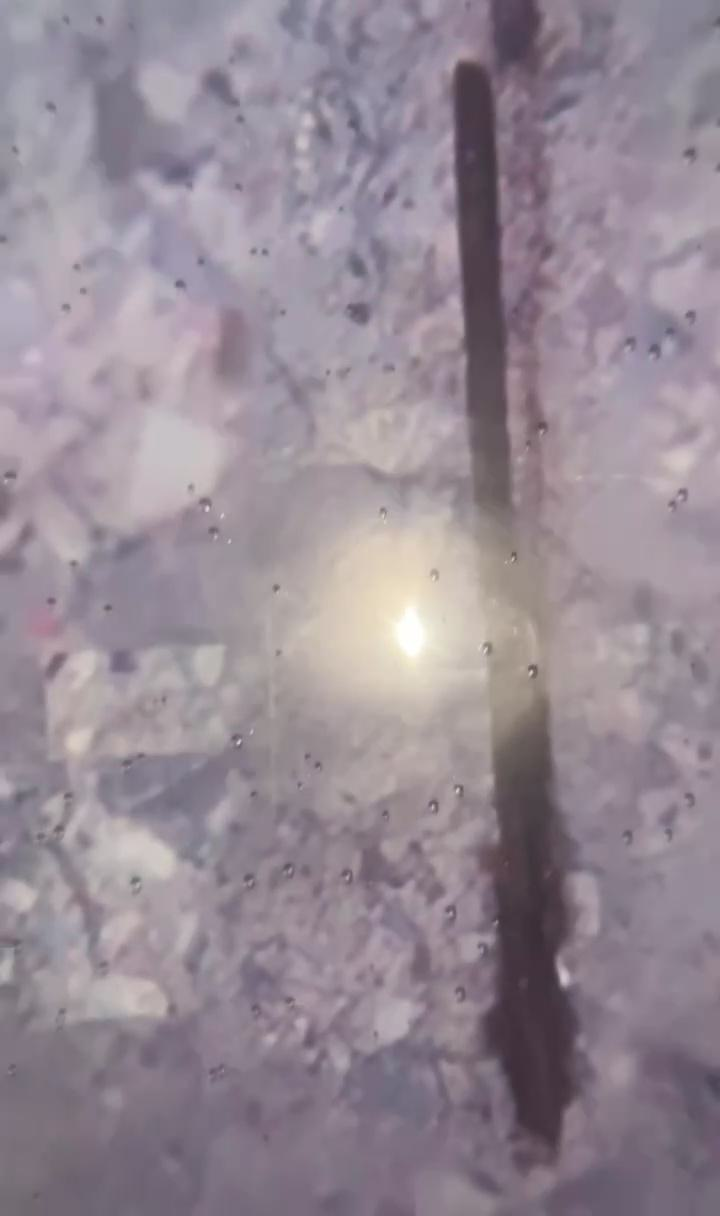Exposed reinforcement: (453, 59, 567, 1136)
